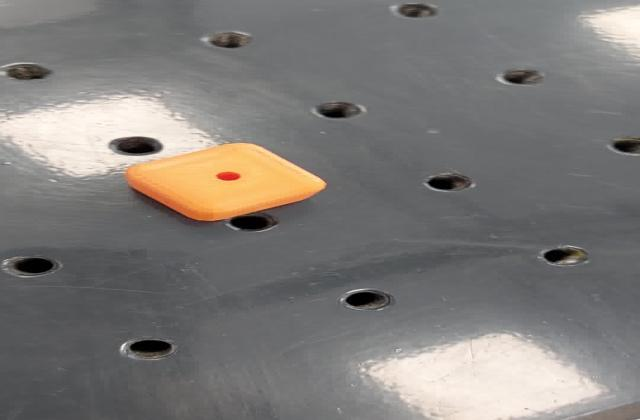cube: (120, 140, 333, 226)
